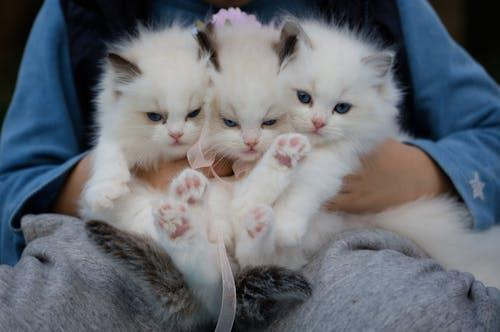kedo: (275, 21, 392, 148), (103, 45, 207, 156)
